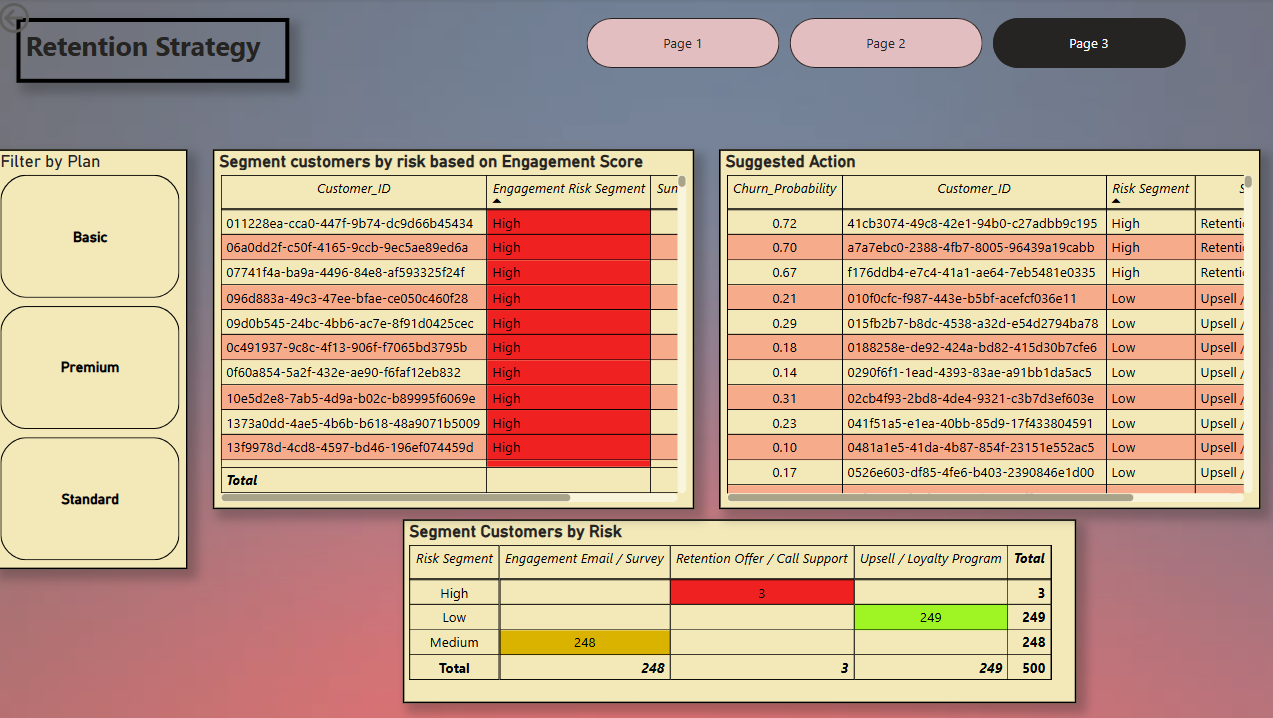

The page's visual inventory and layout, read from the dashboard file:
{"tool":"powerbi","page":{"name":"Page 3","canvas":[1280,720],"ordinal":2},"visuals":[{"type":"textbox","box":[22.5,20,272.5,65],"z":0},{"type":"pivotTable","title":"Segment Customers by Risk","fields":{"Values":["CountNonNull(ChurnWithProbability.Customer_ID)"],"Rows":["ChurnWithProbability.Risk Segment"],"Columns":["ChurnWithProbability.Suggested Action"]},"box":[408.8,521.2,673.8,183.8],"z":1000},{"type":"advancedSlicerVisual","title":"Filter by Plan","fields":{"Values":["ChurnWithProbability.Subscription_Plan"]},"box":[0,151.2,193.8,420],"z":2000},{"type":"tableEx","title":"Suggested Action","fields":{"Values":["ChurnWithProbability.Churn_Probability","ChurnWithProbability.Customer_ID","ChurnWithProbability.Risk Segment","ChurnWithProbability.Suggested Action"]},"box":[725,151.2,541.2,360],"z":3000},{"type":"tableEx","title":"Segment customers by risk based on Engagement Score","fields":{"Values":["ChurnWithProbability.Customer_ID","ChurnWithProbability.Engagement Risk Segment","Sum(ChurnWithProbability.Engagement_Score)"]},"box":[218.8,151.2,481.2,360],"z":4000},{"type":"actionButton","box":[0,0,100,40],"z":5000},{"type":"pageNavigator","box":[592.5,20,600,50],"z":5001}]}

Visuals, with their boxes in screenshot pixels (x1, y1, x2, y2), scaled from the page's 1280x720 canvas onto the 1273x718 screenshot:
textbox: {"x1": 22, "y1": 20, "x2": 293, "y2": 85}
"Segment Customers by Risk" pivotTable: {"x1": 407, "y1": 520, "x2": 1077, "y2": 703}
"Filter by Plan" advancedSlicerVisual: {"x1": 0, "y1": 151, "x2": 193, "y2": 570}
"Suggested Action" tableEx: {"x1": 721, "y1": 151, "x2": 1259, "y2": 510}
"Segment customers by risk based on Engagement Score" tableEx: {"x1": 218, "y1": 151, "x2": 696, "y2": 510}
actionButton: {"x1": 0, "y1": 0, "x2": 99, "y2": 40}
pageNavigator: {"x1": 589, "y1": 20, "x2": 1186, "y2": 70}
